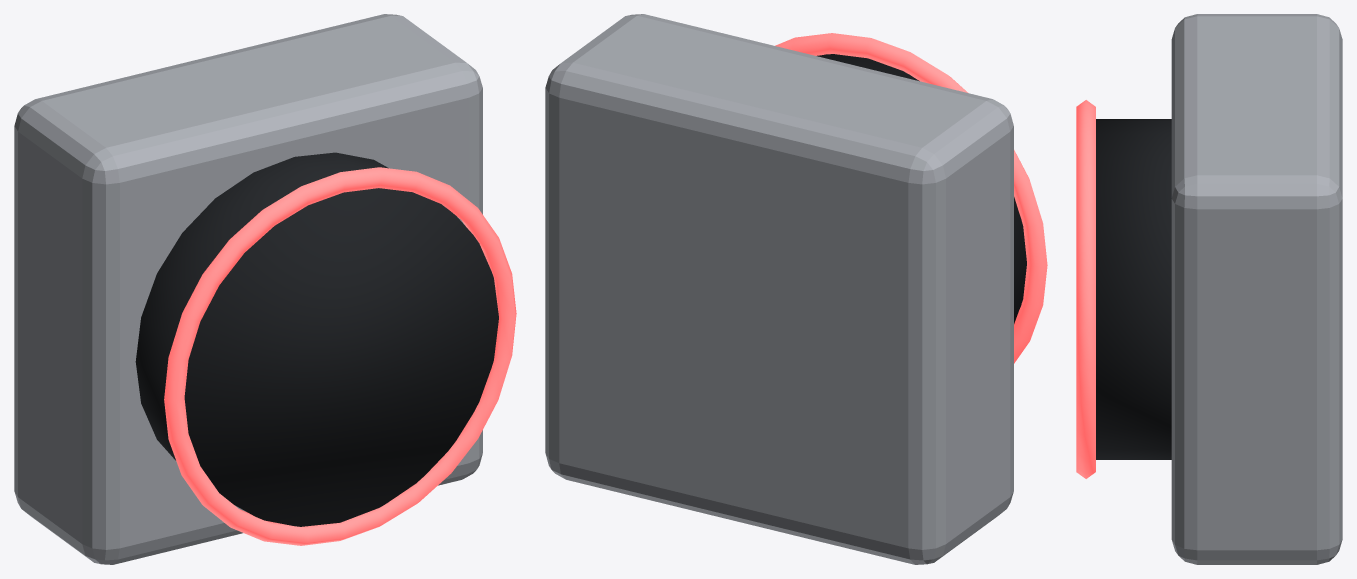
File: wall_vent_duct_port.glb
3 views of the same model, side by side, from view 1: azimuth 30°, elevation 25°; view 2: azimuth 150°, elevation 25°; view 3: azimuth 270°, elevation 25° (orthographic). The views are drawn at different scales.
Parts seen in each view (by area): view 1: GD_wall_vent_duct_port__m0, GD_wall_vent_duct_port__m1, GD_wall_vent_duct_port__m2; view 2: GD_wall_vent_duct_port__m0, GD_wall_vent_duct_port__m2, GD_wall_vent_duct_port__m1; view 3: GD_wall_vent_duct_port__m0, GD_wall_vent_duct_port__m1, GD_wall_vent_duct_port__m2.
Boxes of the visible parts, x1,y1,x2,y2 form: GD_wall_vent_duct_port__m0: [14, 14, 482, 564]; GD_wall_vent_duct_port__m1: [135, 152, 498, 526]; GD_wall_vent_duct_port__m2: [164, 167, 516, 545]; GD_wall_vent_duct_port__m0: [545, 14, 1013, 564]; GD_wall_vent_duct_port__m2: [775, 33, 1047, 363]; GD_wall_vent_duct_port__m1: [817, 54, 1026, 323]; GD_wall_vent_duct_port__m0: [1171, 14, 1342, 564]; GD_wall_vent_duct_port__m1: [1096, 119, 1171, 459]; GD_wall_vent_duct_port__m2: [1076, 100, 1095, 478].
Size of the model in its own units: 0.5 by 0.5 by 0.3114.
